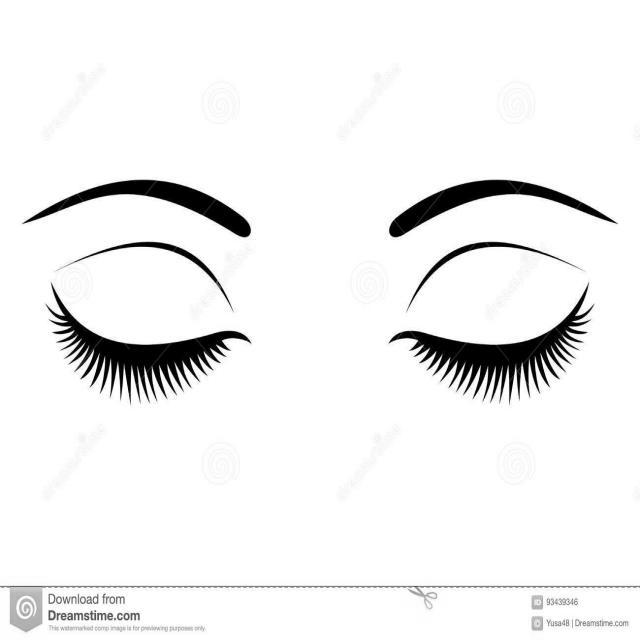real: (14, 163, 621, 436)
